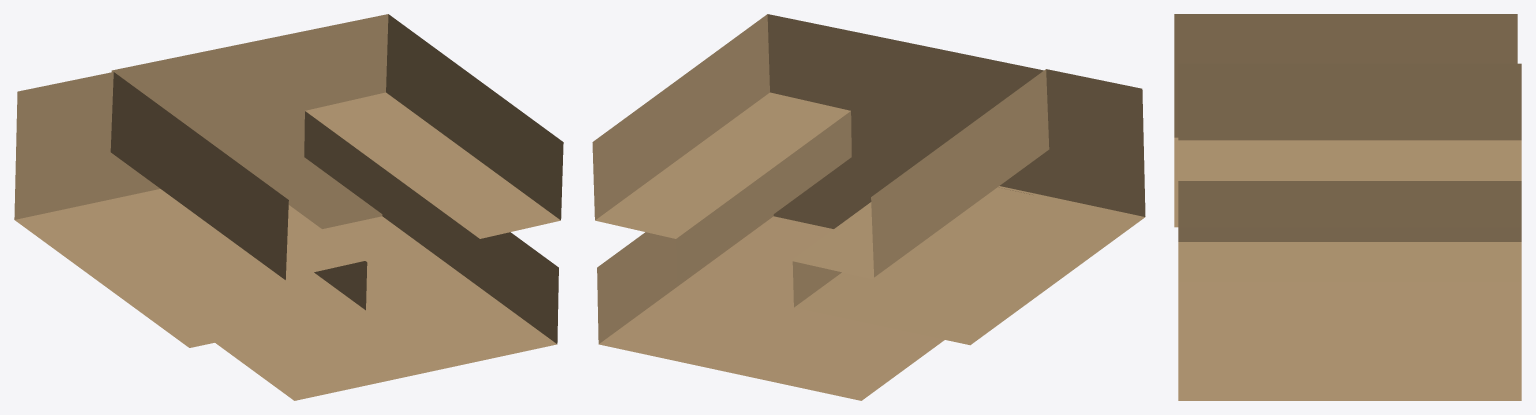
3 views of the same model, side by side, from view 1: azimuth 30°, elevation 25°; view 2: azimuth 150°, elevation 25°; view 3: azimuth 270°, elevation 25° (orthographic).
Parts seen in each view (by area): view 1: 0_3_2_3_1_1_2_1_3; view 2: 0_3_2_3_1_1_2_1_3; view 3: 0_3_2_3_1_1_2_1_3.
Part boxes in pixels (box(x1,y1,x2,y2)): 0_3_2_3_1_1_2_1_3: box(14, 14, 563, 400); 0_3_2_3_1_1_2_1_3: box(592, 14, 1145, 400); 0_3_2_3_1_1_2_1_3: box(1174, 14, 1521, 400).
Bounding box in the file's own units: 33.47 × 18.34 × 27.3.
